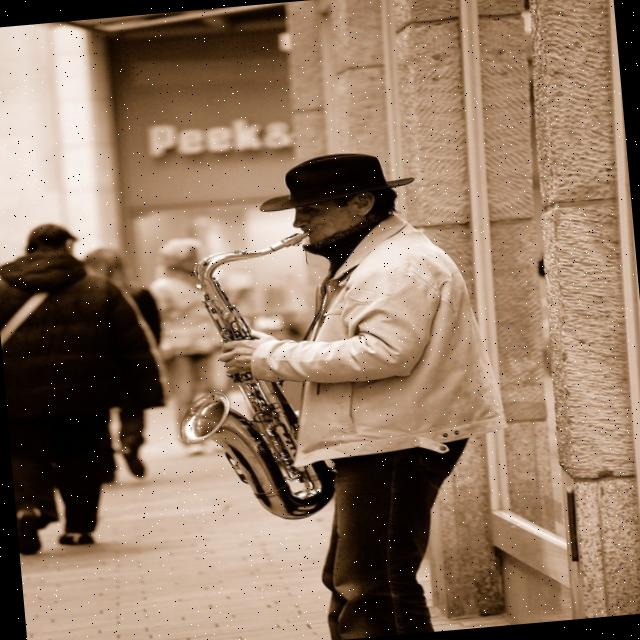saxophone: (155, 227, 348, 529)
